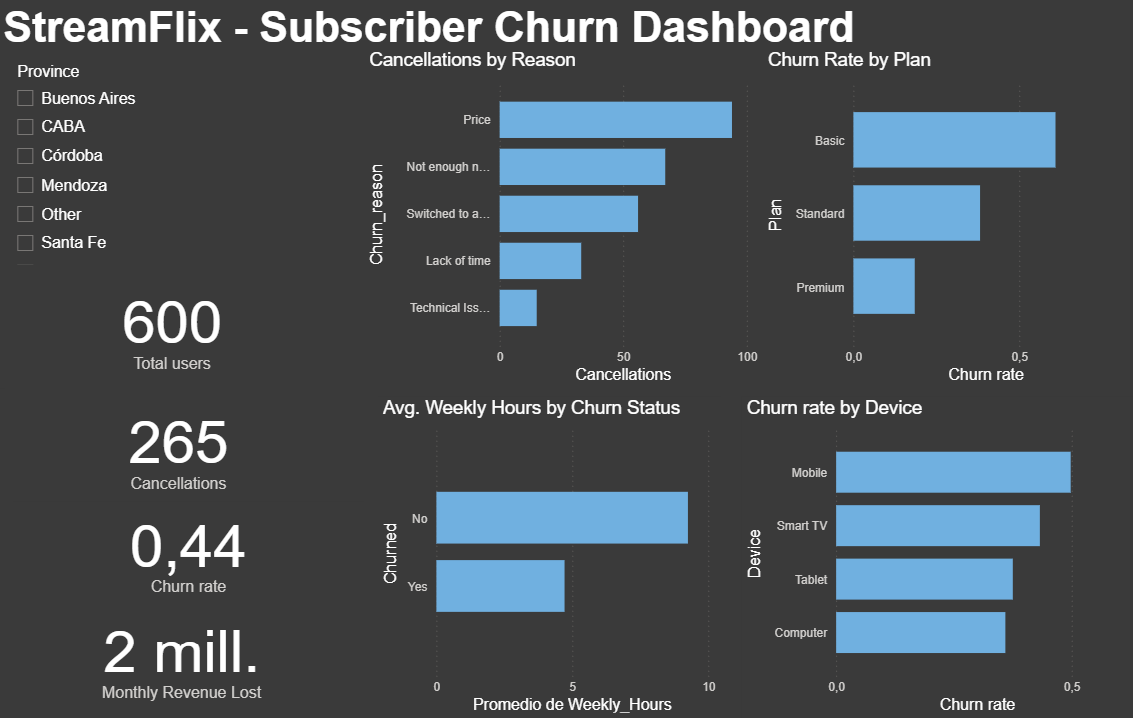

This screenshot's page, from the dashboard's own definition file:
{"tool":"powerbi","page":{"name":"Página 1","canvas":[1280,720],"ordinal":0},"visuals":[{"type":"clusteredBarChart","title":"Churn Rate by Plan","fields":{"Category":["Subscribers.Plan"],"Y":["Subscribers.Churn rate"]},"box":[765,51.2,370,338.8],"z":0},{"type":"clusteredBarChart","title":"Cancellations by Reason","fields":{"Category":["Subscribers.Churn_reason"],"Y":["Subscribers.Cancellations"]},"box":[366.2,51.2,398.8,338.8],"z":1000},{"type":"clusteredBarChart","title":"Churn rate by Device","fields":{"Category":["Subscribers.Device"],"Y":["Subscribers.Churn rate"]},"box":[743.8,398.8,391.2,321.2],"z":2000},{"type":"slicer","fields":{"Values":["Subscribers.Province"]},"box":[6.2,60,342.5,311.2],"z":3000},{"type":"textbox","box":[0,0,1280,51.2],"z":4000},{"type":"clusteredBarChart","title":"Avg. Weekly Hours by Churn Status","fields":{"Category":["Subscribers.Churned"],"Y":["Avg(Subscribers.Weekly_Hours)"]},"box":[380,398.8,342.5,321.2],"z":5000},{"type":"card","fields":{"Values":["Subscribers.Monthly Revenue Lost"]},"box":[12.5,595,342.5,125],"z":6000},{"type":"card","fields":{"Values":["Subscribers.Total users"]},"box":[0,266.2,348.8,123.8],"z":7000},{"type":"card","fields":{"Values":["Subscribers.Cancellations"]},"box":[6.2,390,348.8,116.2],"z":8000},{"type":"card","fields":{"Values":["Subscribers.Churn rate"]},"box":[15,503.8,351.2,96.2],"z":9000}]}

Visuals, with their boxes on the page's 1280x720 design canvas (x1, y1, x2, y2). These are canvas units, not pixel positions in the 1133x718 screenshot, which may show the page scaled, cropped or inside an application window:
"Churn Rate by Plan" clusteredBarChart: crop(765, 51, 1135, 390)
"Cancellations by Reason" clusteredBarChart: crop(366, 51, 765, 390)
"Churn rate by Device" clusteredBarChart: crop(744, 399, 1135, 720)
slicer - Subscribers.Province: crop(6, 60, 349, 371)
textbox: crop(0, 0, 1280, 51)
"Avg. Weekly Hours by Churn Status" clusteredBarChart: crop(380, 399, 722, 720)
card - Subscribers.Monthly Revenue Lost: crop(12, 595, 355, 720)
card - Subscribers.Total users: crop(0, 266, 349, 390)
card - Subscribers.Cancellations: crop(6, 390, 355, 506)
card - Subscribers.Churn rate: crop(15, 504, 366, 600)
